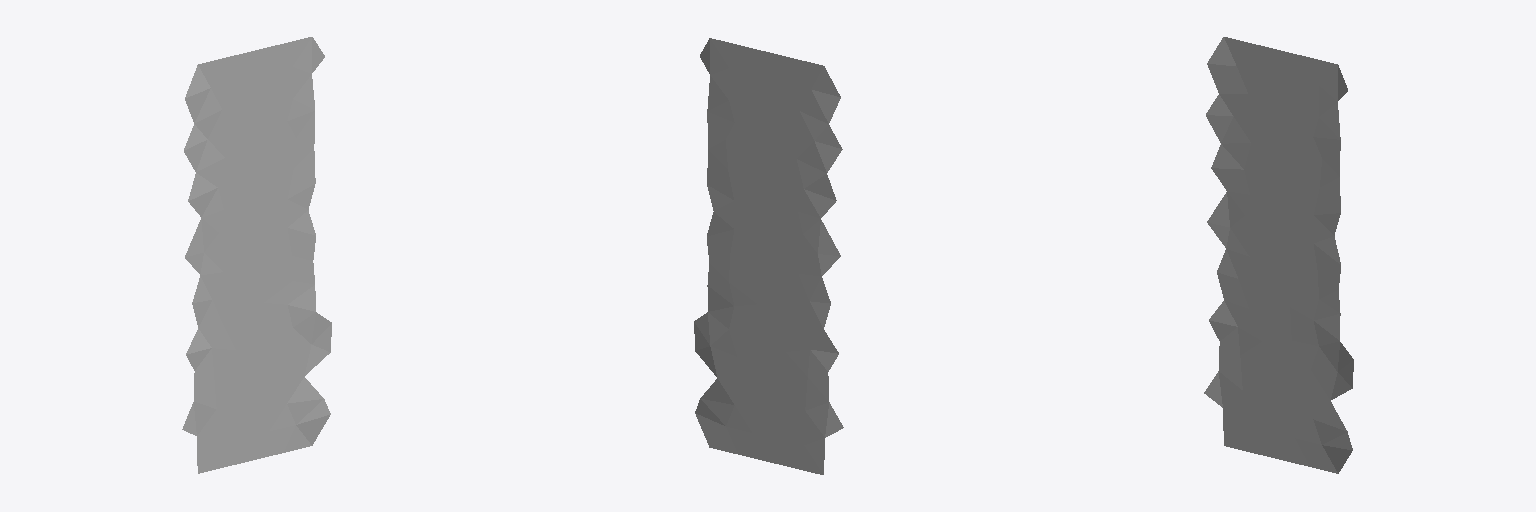
File: z_minimas.obj
3 views of the same model, side by side, from view 1: azimuth 30°, elevation 25°; view 2: azimuth 150°, elevation 25°; view 3: azimuth 330°, elevation 25° (orthographic).
Size of the model in its own units: 3.84 by 10 by 0.0985.